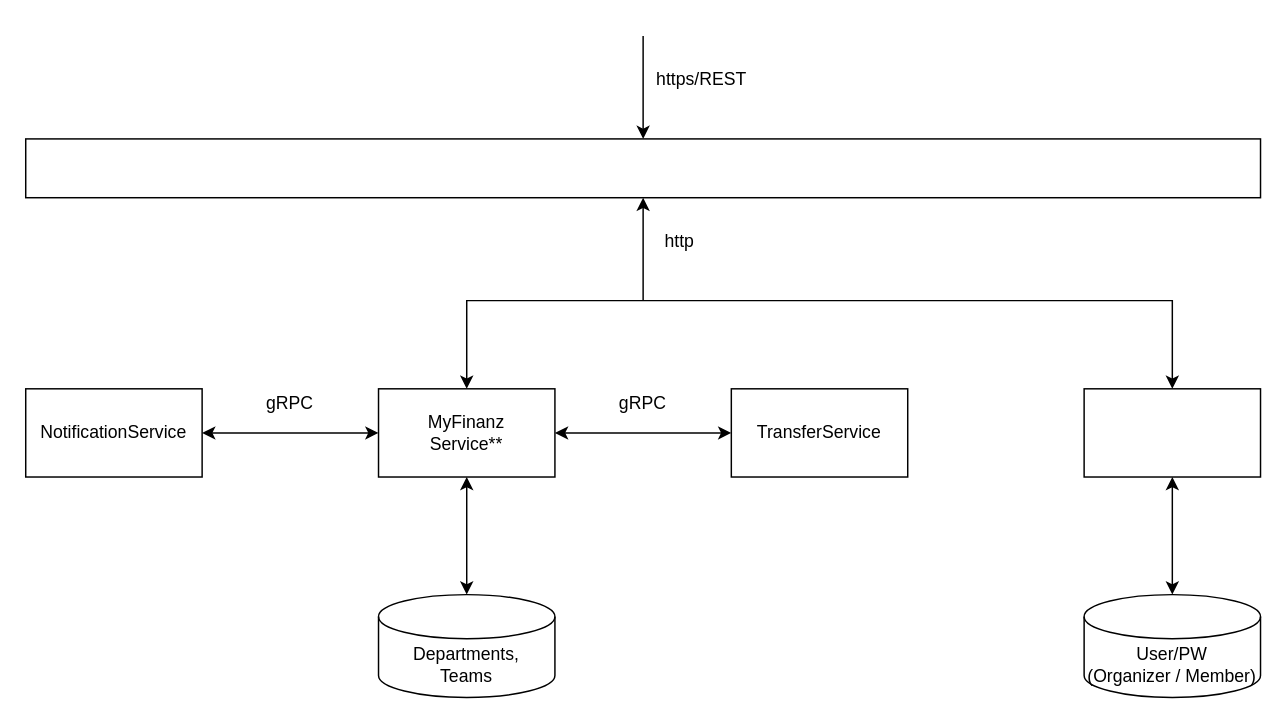
Image size: 1286x723. Some labels were removed from this diagram. The shapes that lost their labels are listed below. From the top down, each one's centre as x and y in pixels, then its label:
pixel 642 167: API Gateway*
pixel 1172 432: Authentication Service
